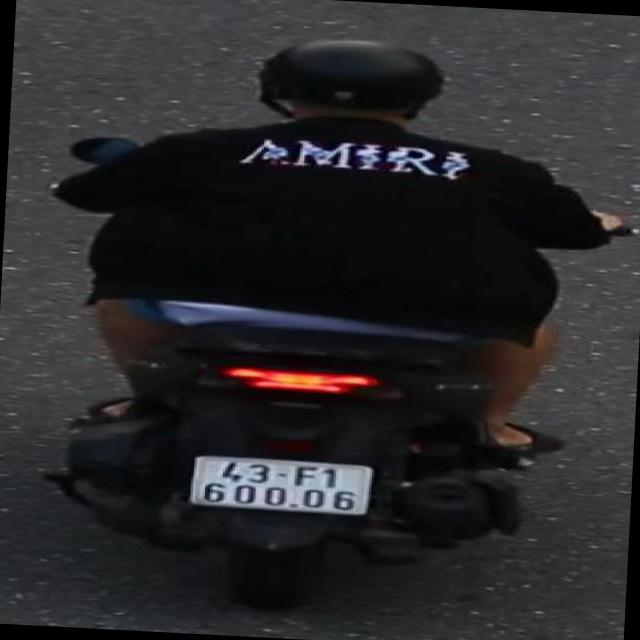LP: (180, 448, 382, 524)
helmet: (246, 30, 455, 140)
